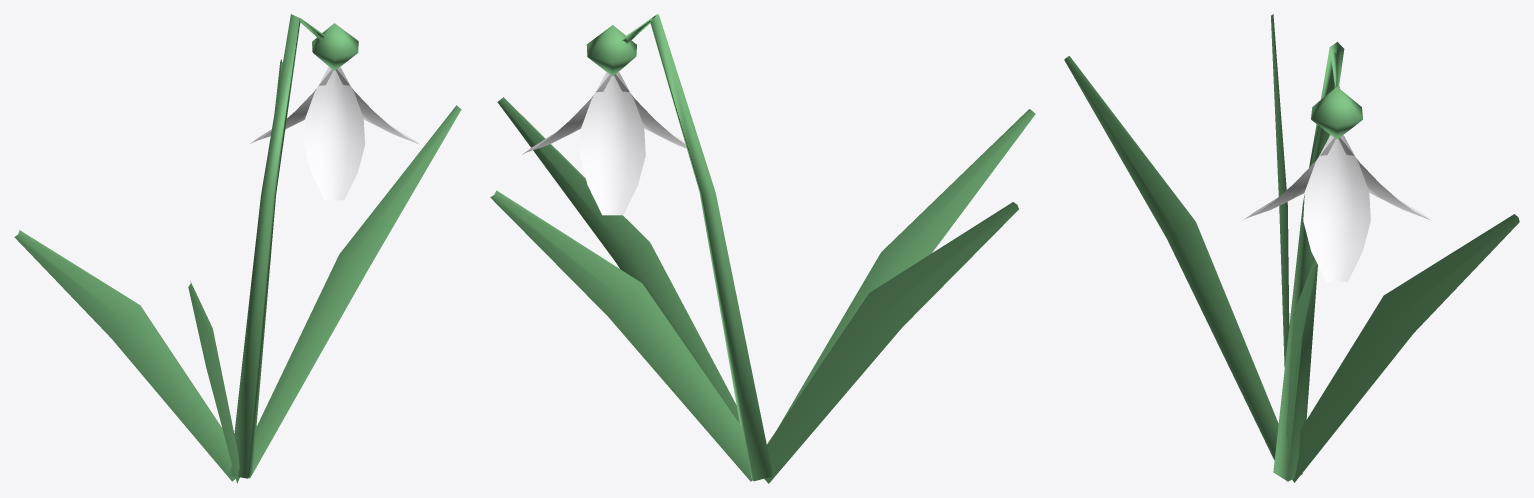
Rendered from flower_snowdrop.glb.
3 renders of one model, left to right at view 1: azimuth 30°, elevation 25°; view 2: azimuth 150°, elevation 25°; view 3: azimuth 270°, elevation 25°, orthographic. The views are drawn at different scales.
Visible parts, largest first — view 1: Flora_Snowdrop; view 2: Flora_Snowdrop; view 3: Flora_Snowdrop.
Part boxes in pixels (x1=…): Flora_Snowdrop: x1=14, y1=14, x2=461, y2=483; Flora_Snowdrop: x1=490, y1=14, x2=1035, y2=483; Flora_Snowdrop: x1=1064, y1=14, x2=1519, y2=482.
Size of the model in its own units: 0.2422 by 0.2144 by 0.1857.
